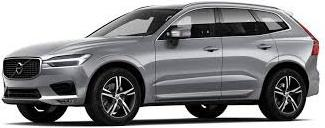SUV: (4, 4, 320, 125)
